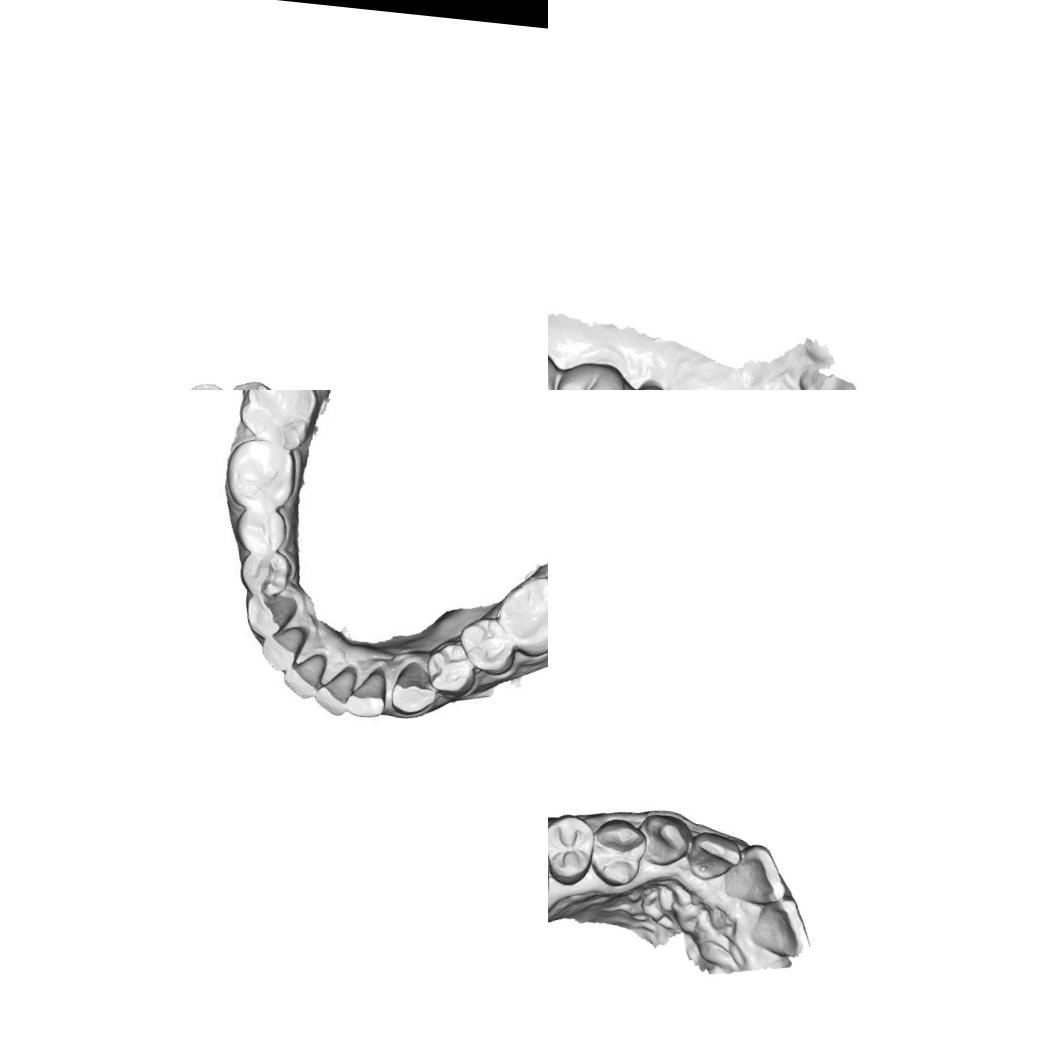canine: (633, 809, 694, 871), (387, 657, 438, 718), (241, 587, 296, 642), (222, 374, 286, 390)
incisor: (720, 837, 794, 910), (743, 894, 812, 962), (683, 826, 745, 892), (310, 660, 358, 718), (344, 664, 388, 724), (257, 624, 307, 674), (281, 654, 323, 703), (795, 365, 863, 390)
molar: (220, 435, 306, 513), (495, 572, 548, 664), (240, 390, 322, 448), (553, 361, 629, 390)
premolar: (586, 813, 648, 892), (548, 811, 598, 889), (233, 500, 291, 558), (237, 545, 298, 599), (465, 620, 516, 672), (428, 640, 476, 695)
